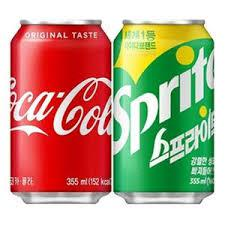sprite: (114, 13, 217, 206)
